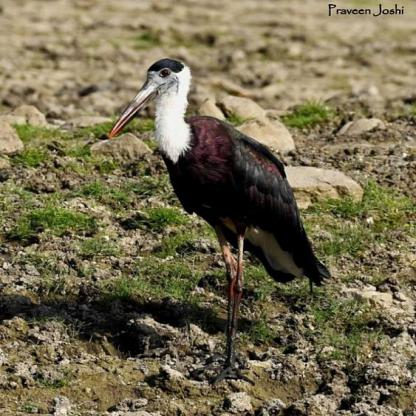Burung: (106, 54, 336, 387)
